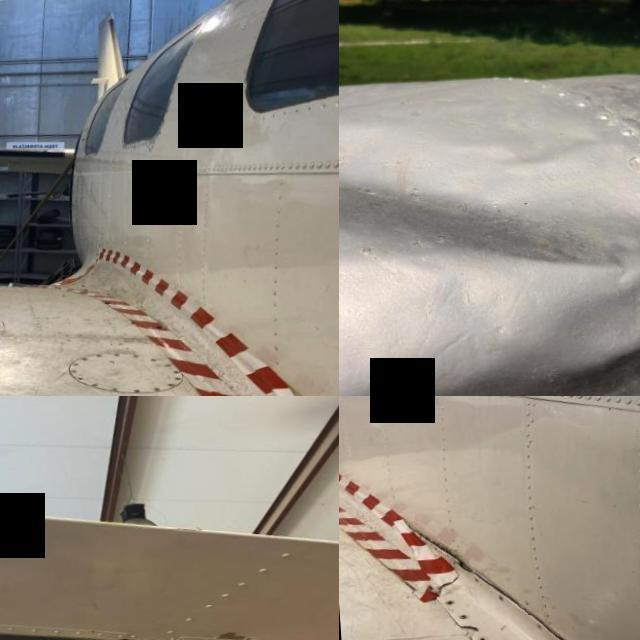Crack: (401, 529, 484, 579)
Dent: (339, 63, 640, 353)
Missing_Fastener: (436, 600, 449, 610), (471, 635, 479, 640), (492, 598, 498, 604)
